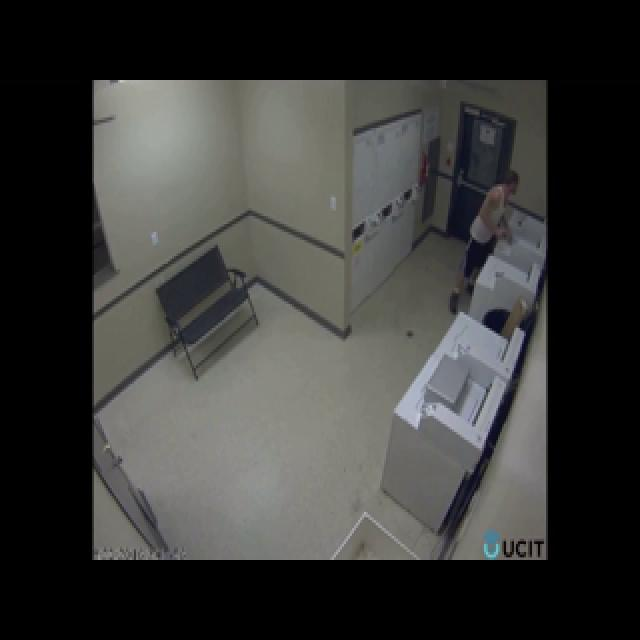arrest: (430, 64, 525, 395)
